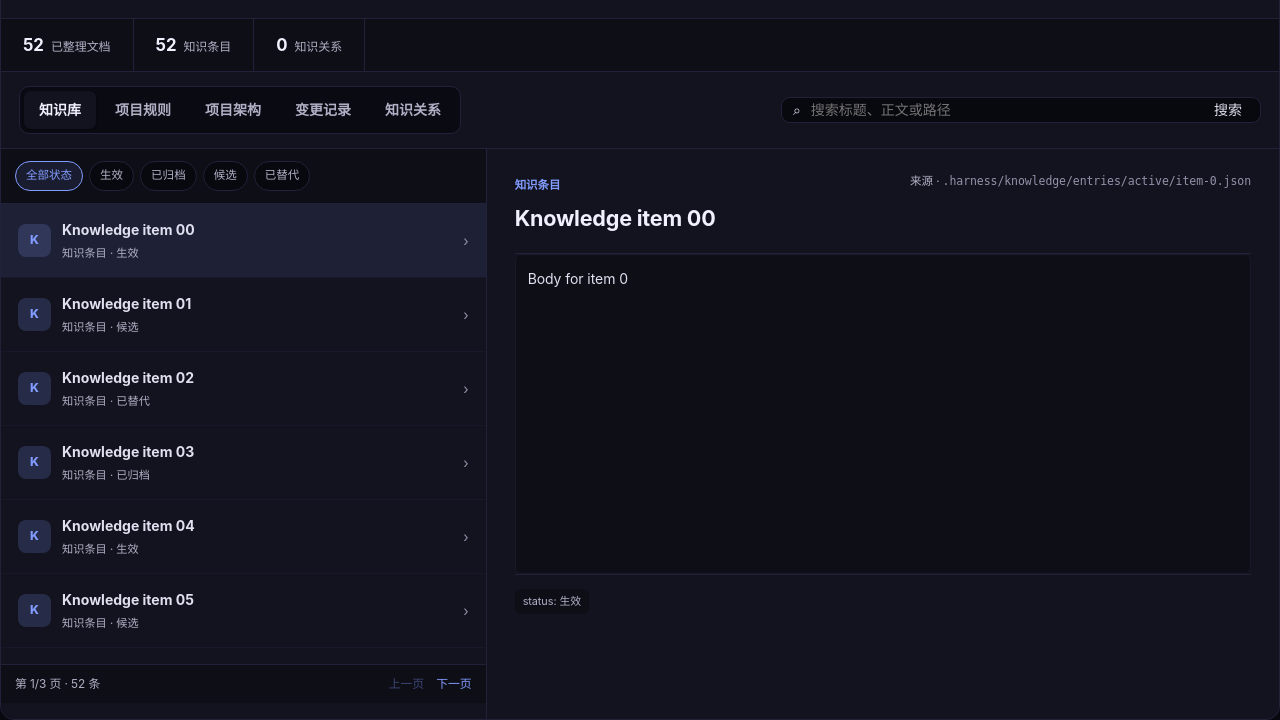
Test: ProjectSemanticPanels › paginates dense knowledge lists and filters by status
(page scrolled)
Expected: the text "第 1/3 页 · 52 条" is shown, [15,675,100,693]
Expected: the text "Knowledge item 00" is shown, [62,221,195,238]
Step 1. Click the button "下一页" → (454, 684), box [436,675,472,693]
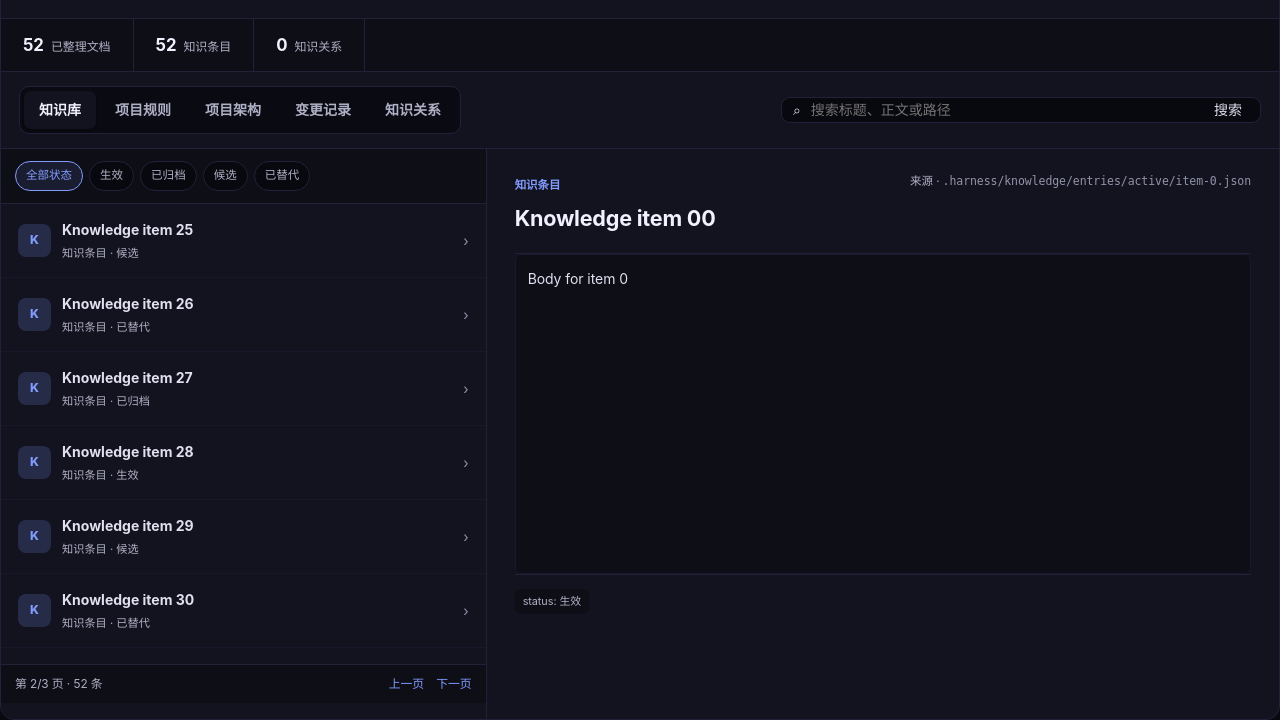
Now the text "第 2/3 页 · 52 条" is shown, box [15,675,103,693]
Now the text "Knowledge item 25" is shown, box [62,221,193,238]
Step 2. Click the button "候选" → (225, 176), box [203,161,248,191]
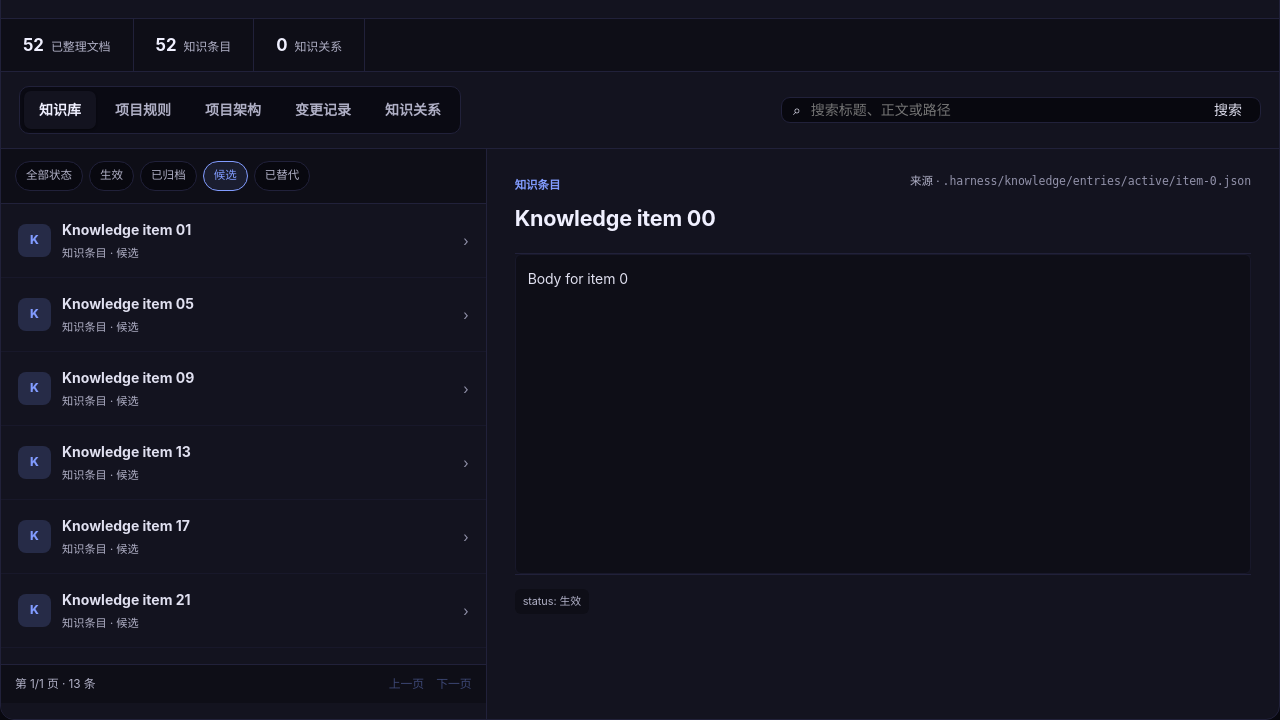
Now the text "第 1/1 页 · 13 条" is shown, box [15,675,96,693]
Step 3. Click the tab "项目规则" → (143, 110), box [100,91,186,129]
(page scrolled)
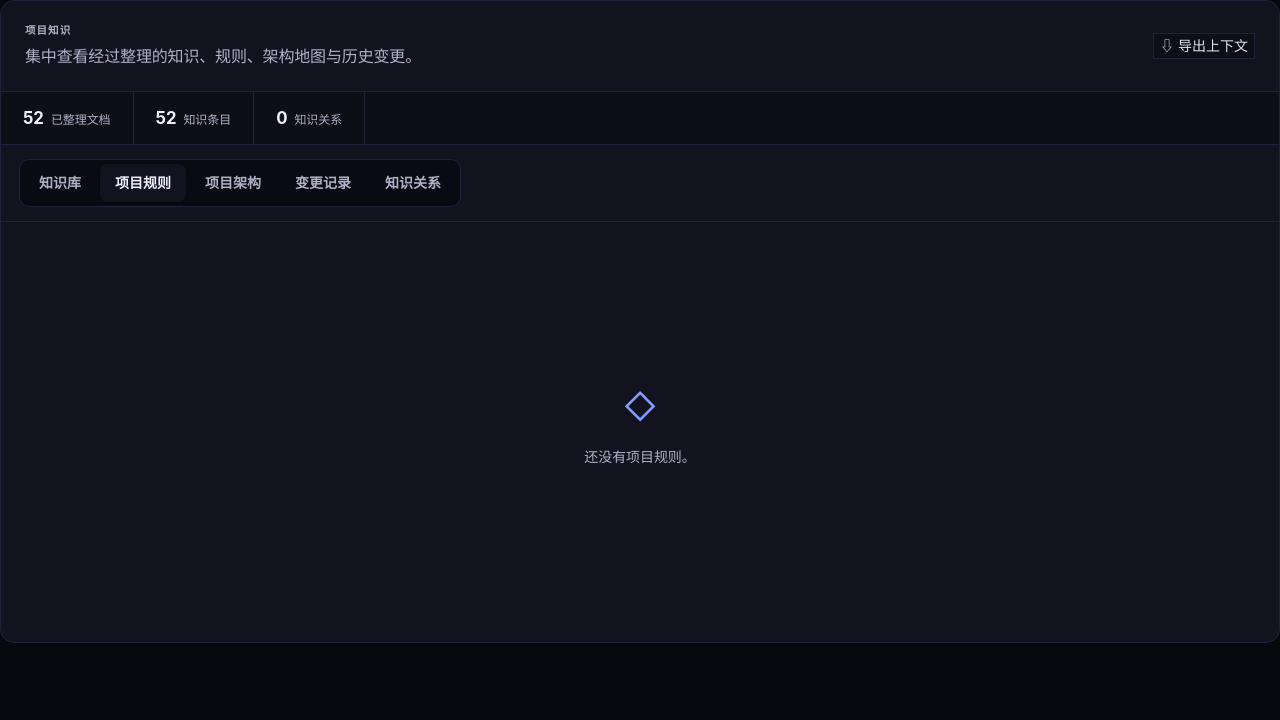
Now the element "按状态筛选" is gone
